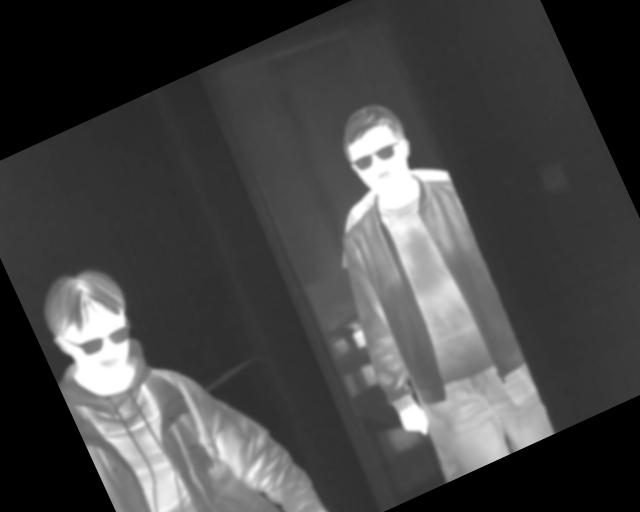face: (29, 255, 152, 394), (330, 98, 427, 208)
